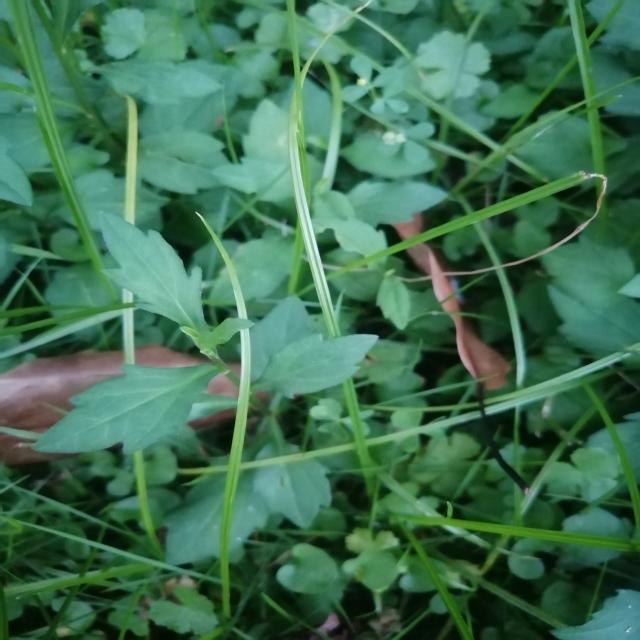Indian aster: (104, 258, 379, 540)
